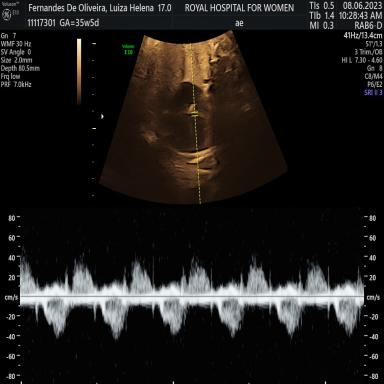Ultrasound-Waves: (26, 211, 362, 384)
